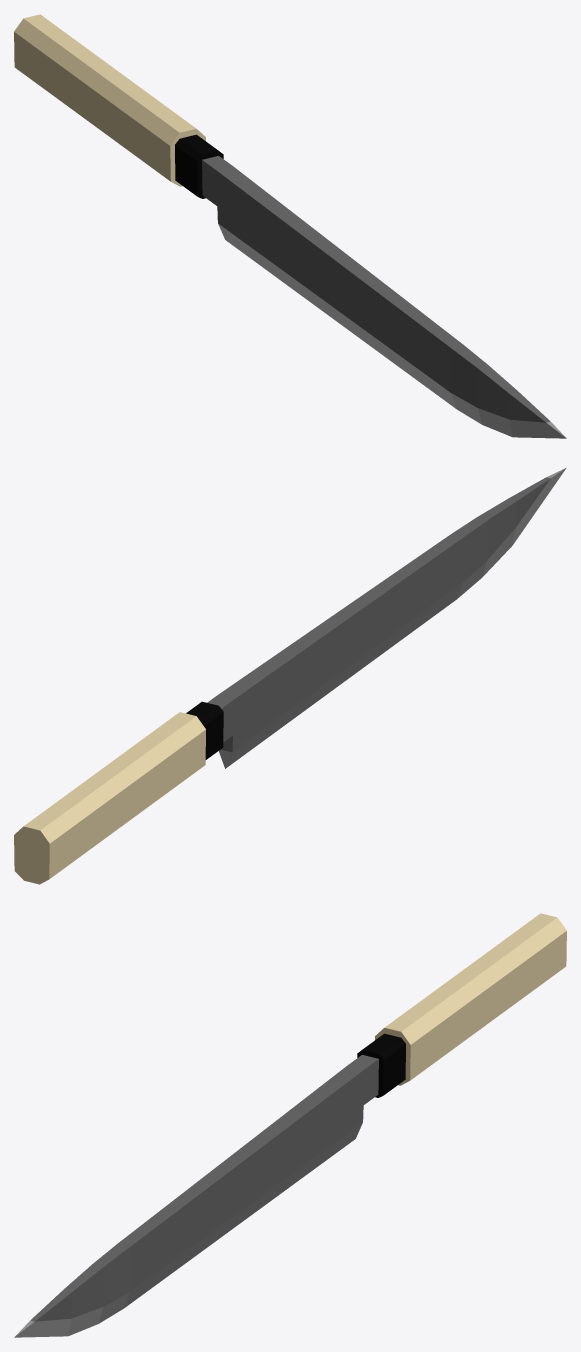
Rendered from houtyou.fbx.
3 views of the same model, one above another, from view 1: azimuth 30°, elevation 25°; view 2: azimuth 150°, elevation 25°; view 3: azimuth 330°, elevation 25° (orthographic).
Parts seen in each view (by area): view 1: pCube1; view 2: pCube1; view 3: pCube1.
Boxes of the visible parts, left/top/right/bottom form: pCube1: left=14, top=14, right=566, bottom=438; pCube1: left=14, top=467, right=566, bottom=884; pCube1: left=14, top=913, right=566, bottom=1337.
Size of the model in its own units: 0.7083 by 1.55 by 18.32.
